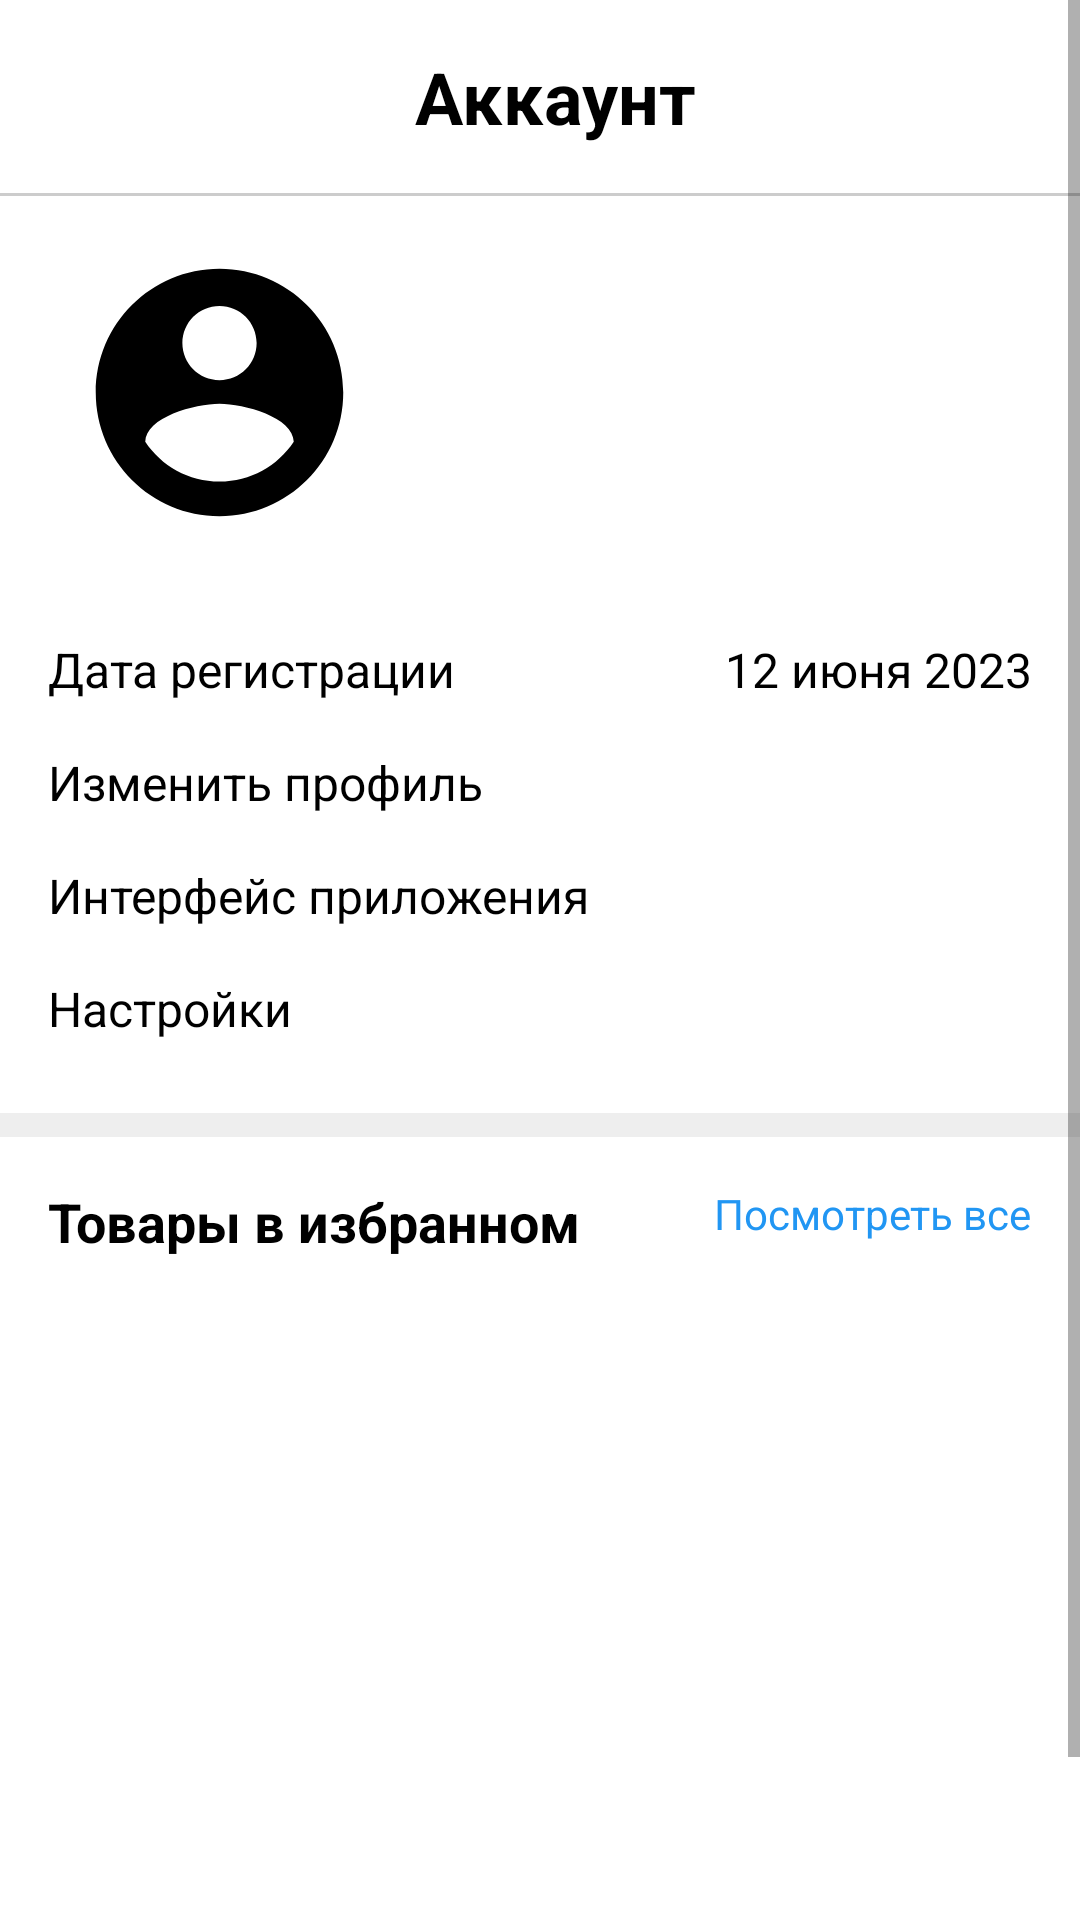

Locate icon controls on the screen. Image size 1080 x 1920, boxes as BBox(x1, y1, x2, y2).
Аватар профиля: BBox(95, 268, 344, 517)
